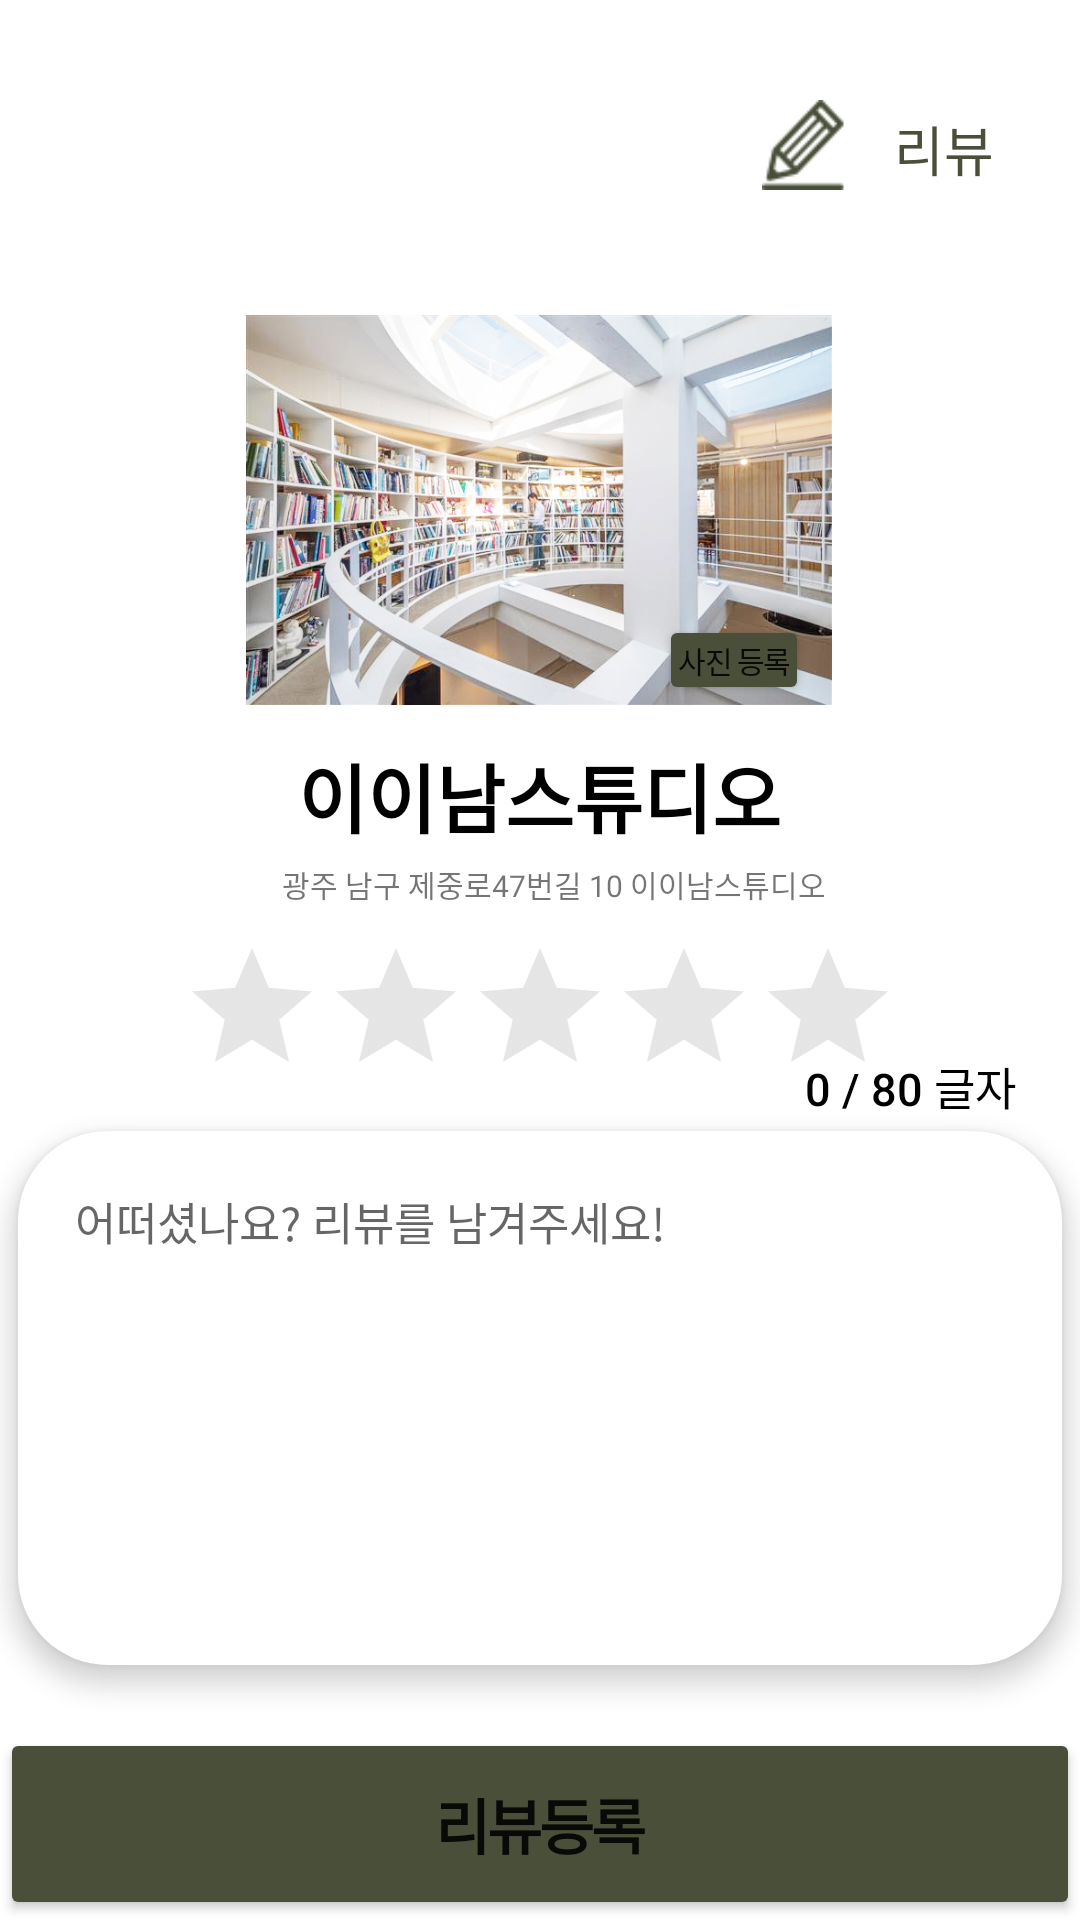

Screen size 1080w x 1920h. Icon name, then its box in pixels as (x1, y1, x2, y2):
review: (762, 100, 844, 190)
